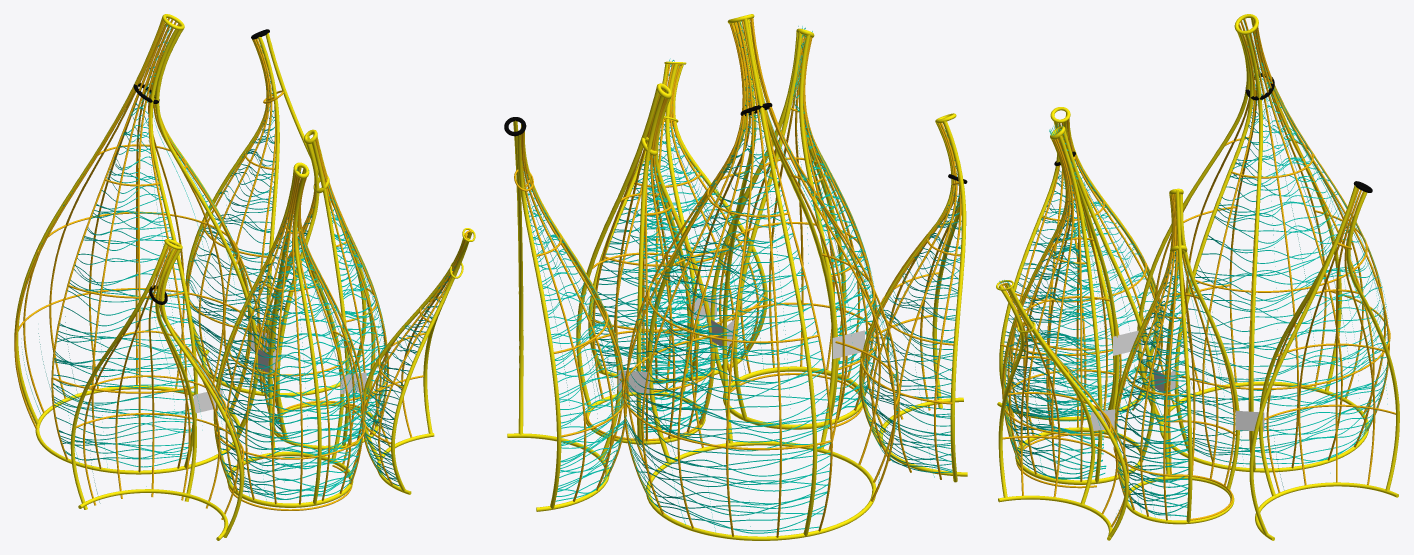
Rendered from garlic.glb.
3 views of the same model, side by side, from view 1: azimuth 30°, elevation 25°; view 2: azimuth 150°, elevation 25°; view 3: azimuth 270°, elevation 25° (orthographic). The views are drawn at different scales.
Bounding box in the file's own units: 4077 × 4777 × 4058.
